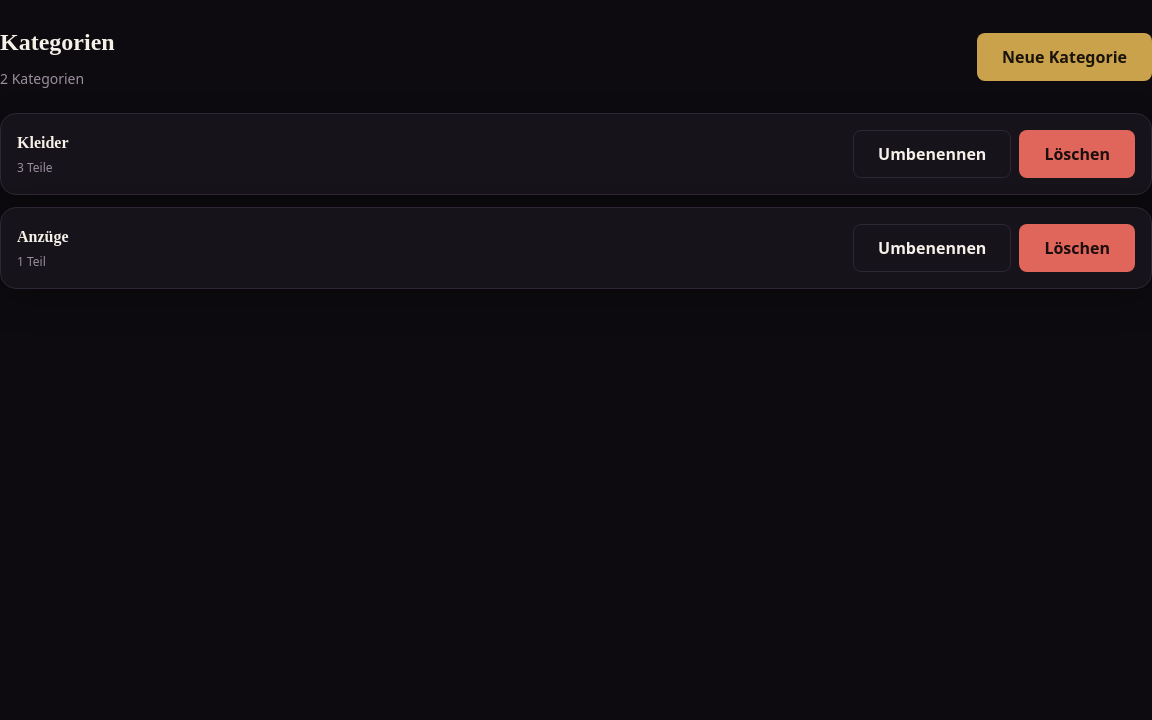
it: CategoriesPage › benennt eine Kategorie um
Expected: the text "Kleider" is shown, [17,131,68,155]
Click the button with aria-label "Umbenennen Kleider": (932, 154) [853,130,1011,178]
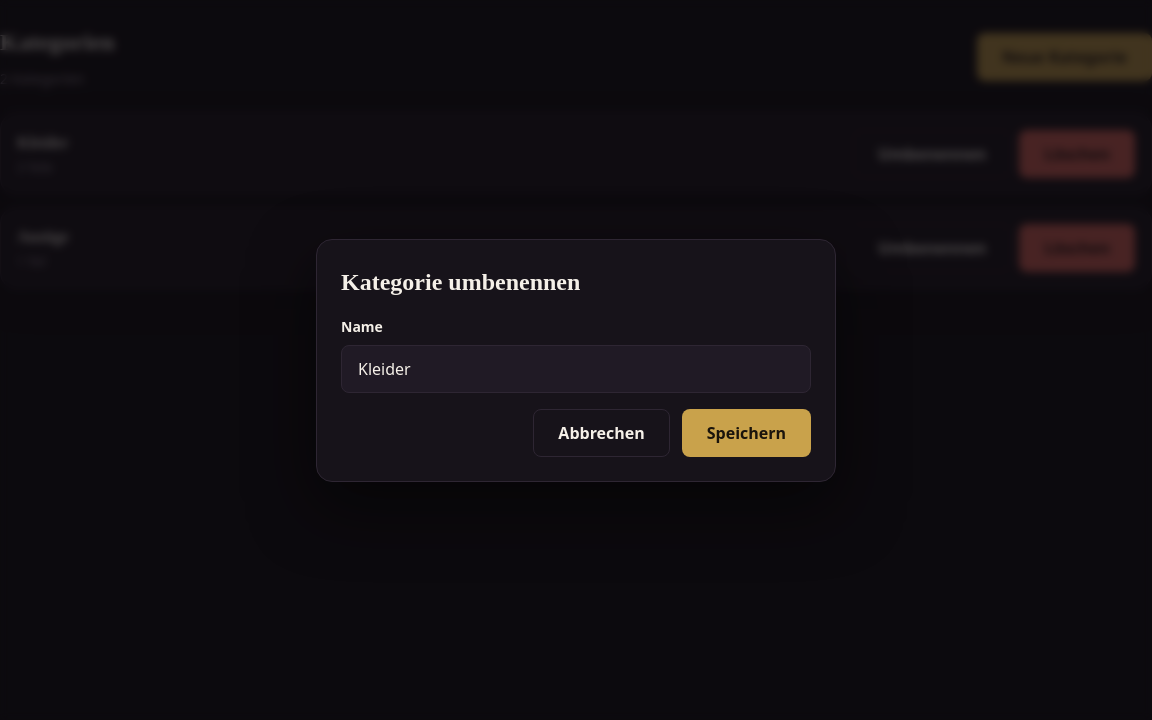
Now the field labelled "Name" holds "Kleider"
Replace the text in the field labelled "Name" with "Abendkleider": (576, 368) [341,344,811,392]
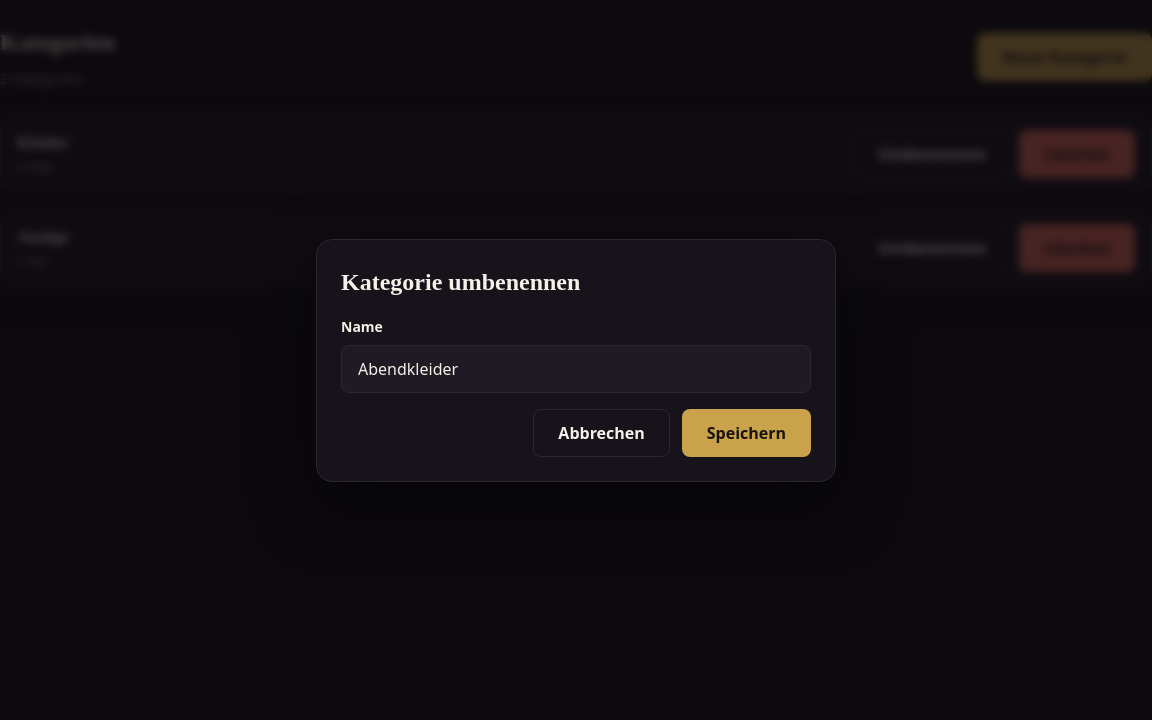
Click the button "Speichern": (746, 432) [682,408,811,456]
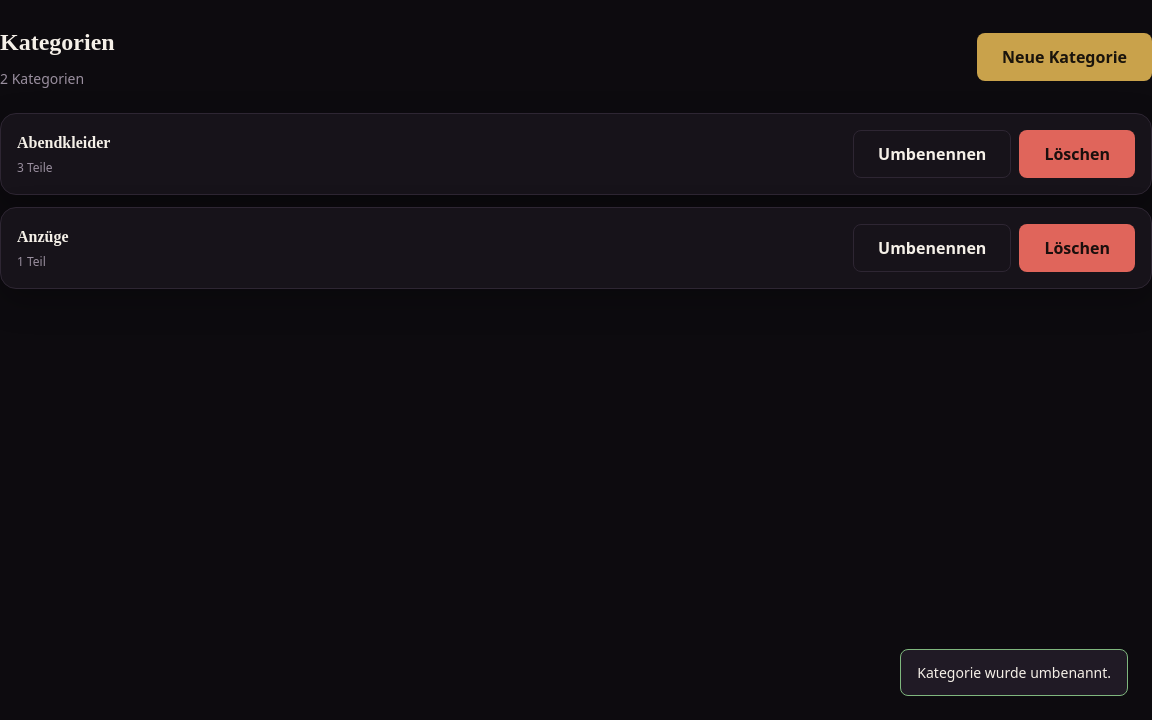
Now the text "Abendkleider" is shown, box [17,131,110,155]
Now the message reads "Kategorie wurde umbenannt.", box [917,663,1111,682]
